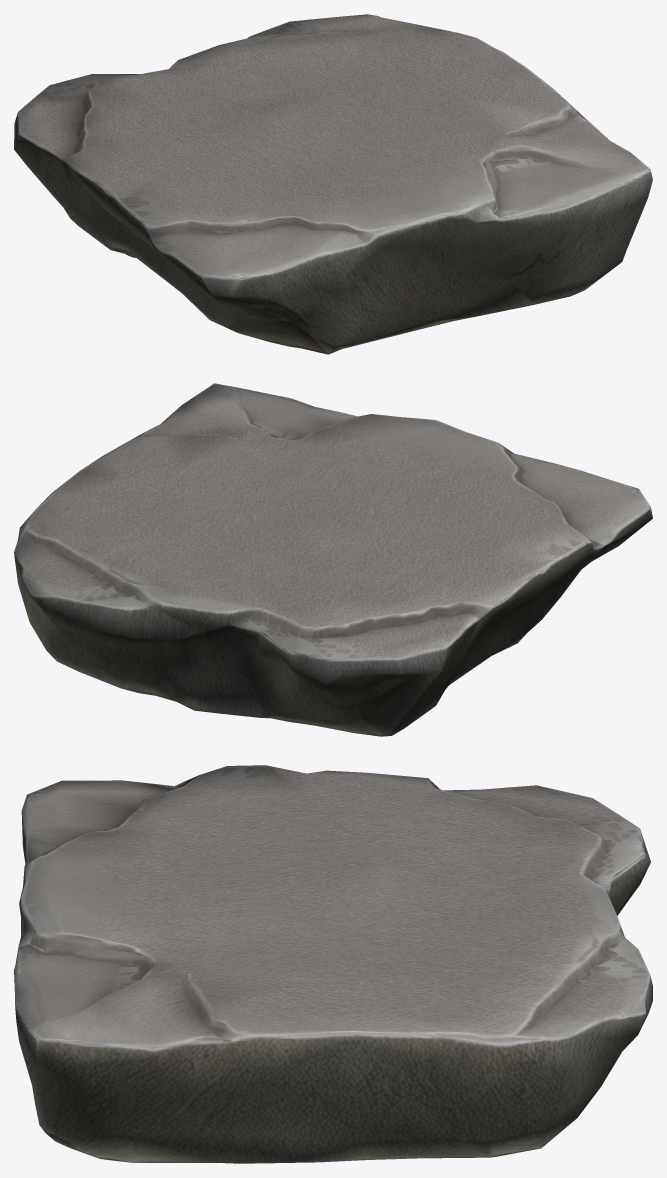
The model's file is Stone.fbx.
3 renders of one model, top to bottom at view 1: azimuth 30°, elevation 25°; view 2: azimuth 150°, elevation 25°; view 3: azimuth 270°, elevation 25°, orthographic. The views are drawn at different scales.
Parts seen in each view (by area): view 1: material_0; view 2: material_0; view 3: material_0.
Part boxes in pixels (x1,y1,x2,y2): material_0: (14, 14, 652, 354); material_0: (14, 383, 652, 736); material_0: (14, 765, 652, 1163).
Bounding box in the file's own units: 100 × 27.29 × 99.96.
Materials: 1 (1 with a texture image).
